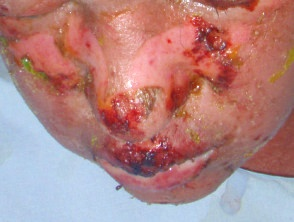SJS-TEN: (0, 1, 268, 206)
